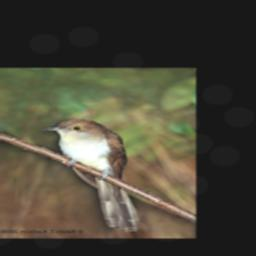Cuckoo: (44, 118, 140, 231)
